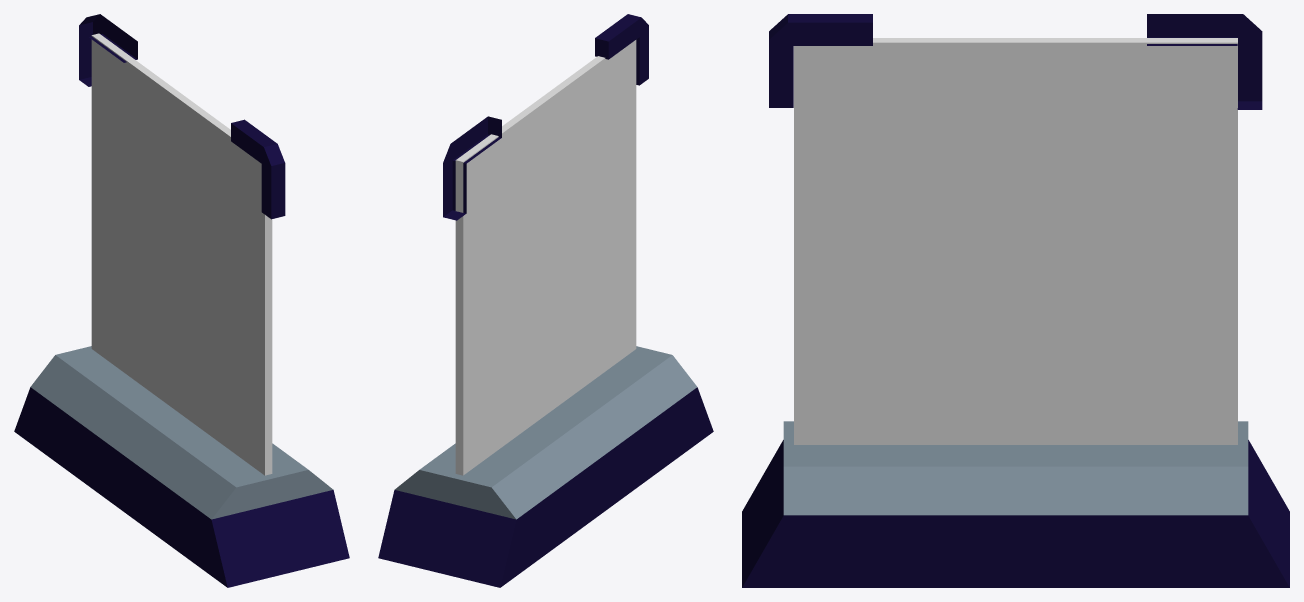
Rendered from HolographicFrame_02.fbx.
3 renders of one model, left to right at view 1: azimuth 30°, elevation 25°; view 2: azimuth 150°, elevation 25°; view 3: azimuth 270°, elevation 25°, orthographic. The views are drawn at different scales.
Parts seen in each view (by area): view 1: HolographicFrame_02; view 2: HolographicFrame_02; view 3: HolographicFrame_02.
Part boxes in pixels (x1=…): HolographicFrame_02: x1=14, y1=14, x2=349, y2=587; HolographicFrame_02: x1=378, y1=14, x2=713, y2=587; HolographicFrame_02: x1=742, y1=14, x2=1289, y2=587.
Bounding box in the file's own units: 0.66 × 2.14 × 2.
